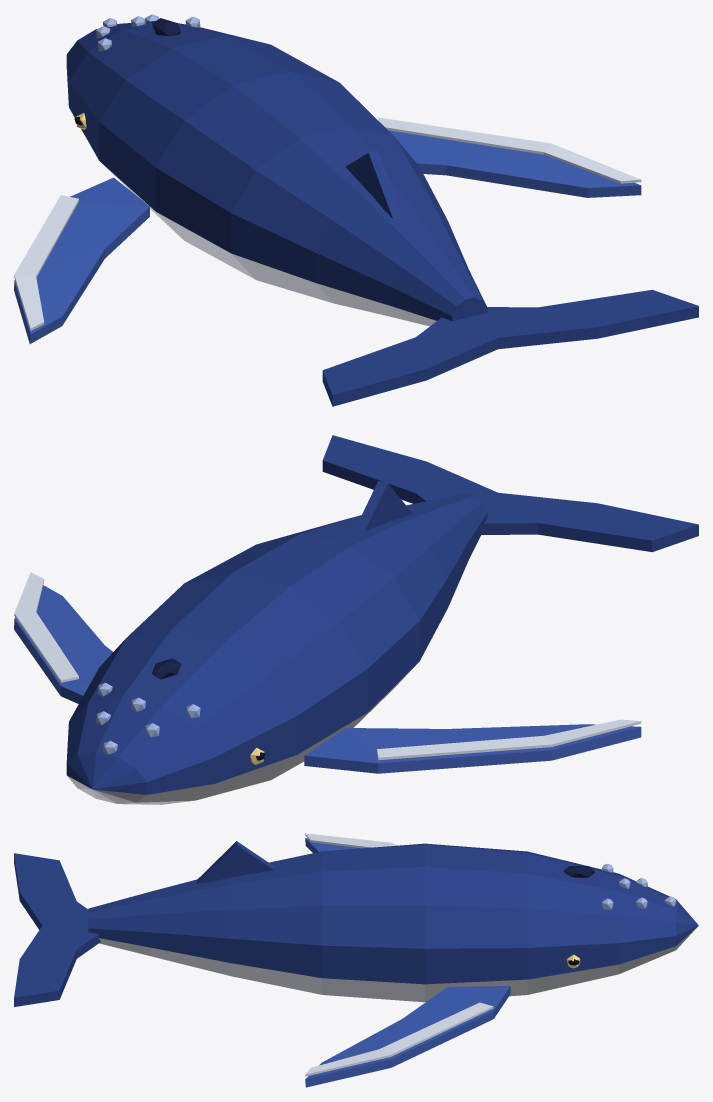
Rendered from echo-whale.glb.
The picture shows the model from 3 angles, top to bottom: view 1: azimuth 30°, elevation 25°; view 2: azimuth 150°, elevation 25°; view 3: azimuth 270°, elevation 25°; orthographic projection. The views are drawn at different scales.
Visible parts, largest first — view 1: echo_whale; view 2: echo_whale; view 3: echo_whale.
Part boxes in pixels (x1,y1,x2,y2): echo_whale: [14, 14, 698, 406]; echo_whale: [14, 435, 698, 804]; echo_whale: [14, 833, 698, 1087].
Size of the model in its own units: 5.01 by 1.39 by 6.
